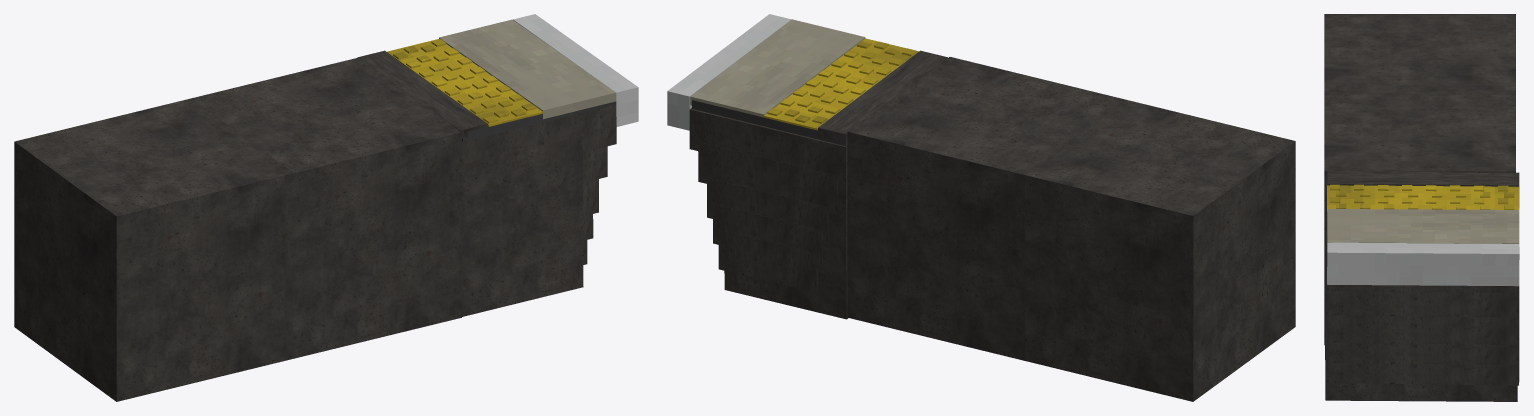
File: track2.obj
3 views of the same model, side by side, from view 1: azimuth 30°, elevation 25°; view 2: azimuth 150°, elevation 25°; view 3: azimuth 270°, elevation 25° (orthographic). The views are drawn at different scales.
Parts seen in each view (by area): view 1: cube.053, cube.052, cube.002, cube.039, cube.001, cube.005, cube, cube.040, cube.038, cube.003; view 2: cube.053, cube.052, cube.002, cube.039, cube.005, cube.001, cube.004, cube.003, cube, cube.040, cube.038; view 3: cube.052, cube.053, cube.002, cube, cube.005, cube.039, cube.003, cube.004, cube.040, cube.001.
Part boxes in pixels (x1,y1,x2,y2): cube.053: (14,98,293,401); cube.052: (192,57,461,360); cube.002: (462,135,607,316); cube.039: (439,19,616,119); cube.001: (462,104,616,164); cube.005: (387,39,593,240); cube: (513,14,638,126); cube.040: (357,50,487,138); cube.038: (462,101,616,141); cube.003: (583,179,598,216); cube.053: (1015,100,1295,401); cube.052: (847,57,1126,360); cube.002: (698,142,848,319); cube.039: (690,19,865,117); cube.005: (713,38,918,269); cube.001: (689,108,847,186); cube.004: (718,229,817,292); cube.003: (707,178,828,246); cube: (667,14,790,130); cube.040: (818,50,947,142); cube.038: (692,100,847,145); cube.052: (1324,90,1515,345); cube.053: (1324,14,1515,94); cube.002: (1325,204,1519,401); cube: (1327,242,1519,286); cube.005: (1327,185,1519,365); cube.039: (1327,209,1519,243); cube.003: (1327,314,1519,345); cube.004: (1327,362,1519,385); cube.040: (1327,171,1519,187); cube.001: (1326,182,1519,293).
Bounding box in the file's own units: 2.81 × 0.9614 × 0.9678.
Materials: 5 (5 with a texture image).
